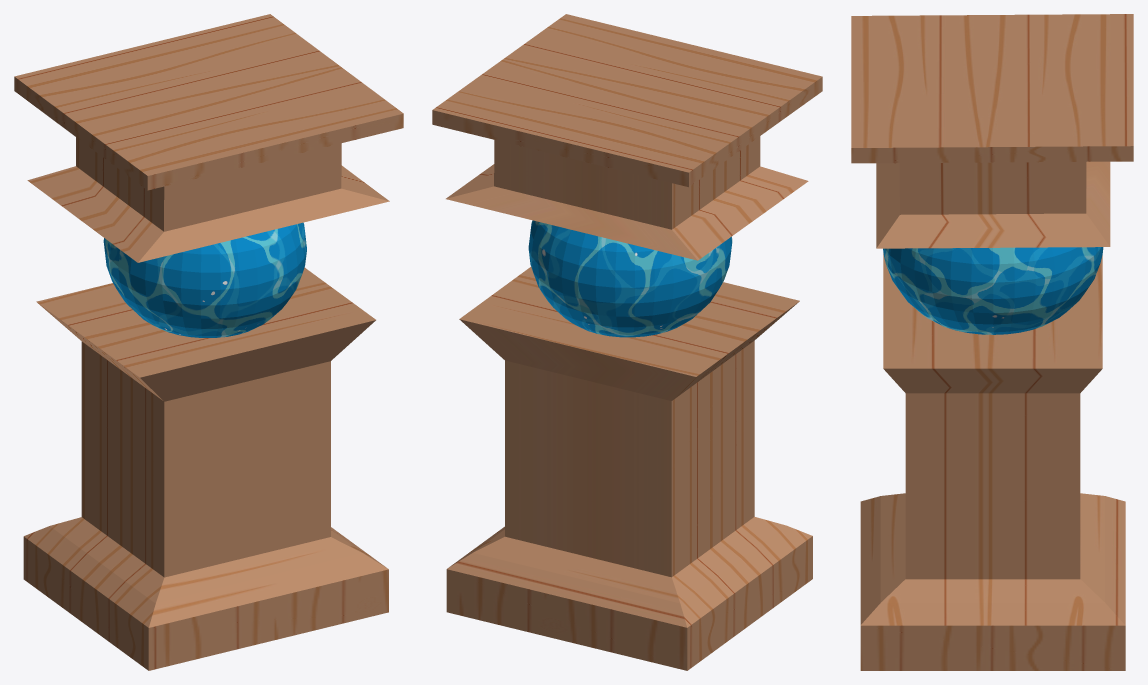
Rendered from ChessPieceKing.fbx.
3 renders of one model, left to right at view 1: azimuth 30°, elevation 25°; view 2: azimuth 150°, elevation 25°; view 3: azimuth 270°, elevation 25°, orthographic. The views are drawn at different scales.
Visible parts, largest first — view 1: Sphere; view 2: Sphere; view 3: Sphere.
Part boxes in pixels (x1=…): Sphere: x1=14, y1=14, x2=403, y2=670; Sphere: x1=432, y1=14, x2=822, y2=670; Sphere: x1=851, y1=14, x2=1133, y2=670.
Bounding box in the file's own units: 298 × 558 × 270.
3 materials, 3 textured.
